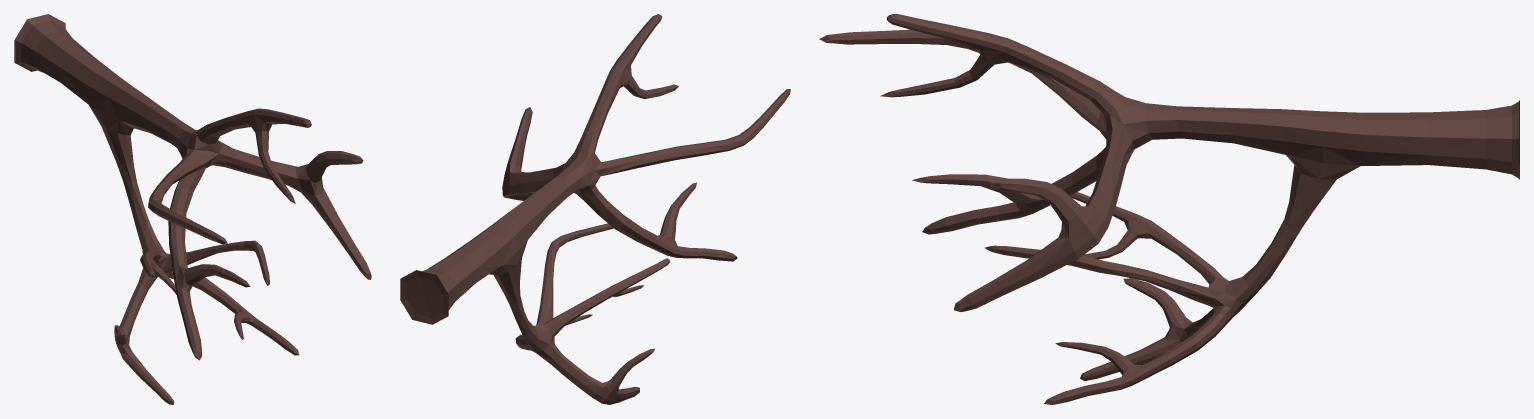
The model's file is tree-bare-deciduous-2-24-ft.obj.
3 renders of one model, left to right at view 1: azimuth 30°, elevation 25°; view 2: azimuth 150°, elevation 25°; view 3: azimuth 270°, elevation 25°, orthographic. The views are drawn at different scales.
Parts seen in each view (by area): view 1: tree-bare-deciduous-2-24-ft; view 2: tree-bare-deciduous-2-24-ft; view 3: tree-bare-deciduous-2-24-ft.
Part boxes in pixels (x1,y1,x2,y2): tree-bare-deciduous-2-24-ft: (14, 14, 371, 404); tree-bare-deciduous-2-24-ft: (400, 14, 790, 404); tree-bare-deciduous-2-24-ft: (819, 14, 1519, 404).
Bounding box in the file's own units: 129 × 181 × 288.
